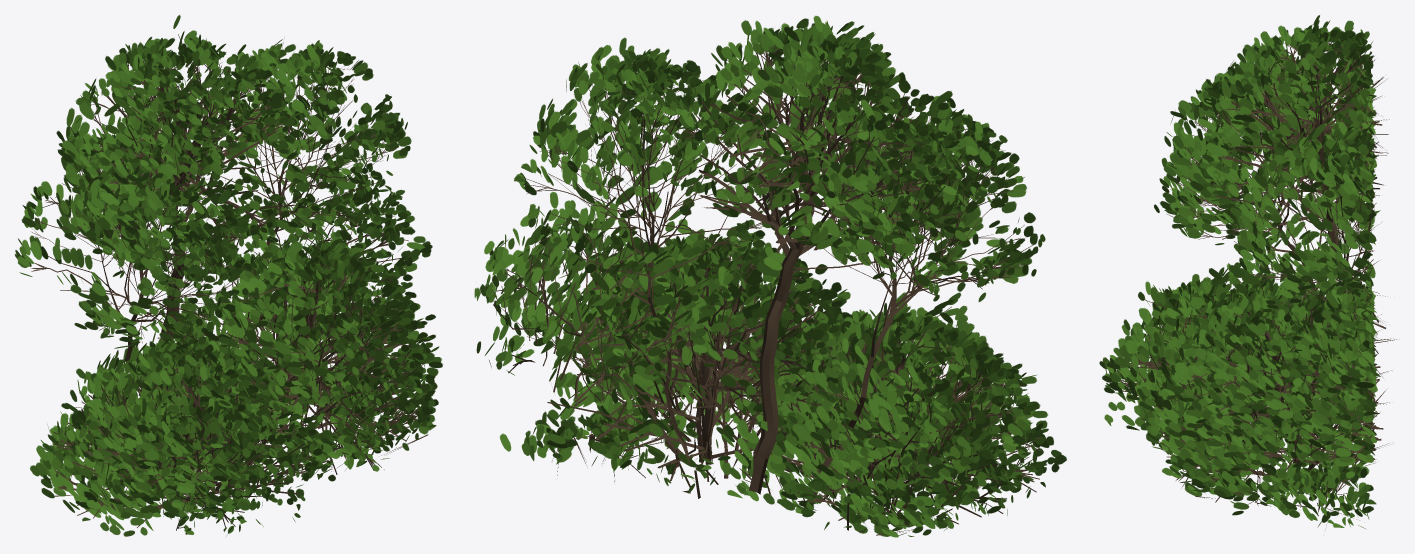
3 views of the same model, side by side, from view 1: azimuth 30°, elevation 25°; view 2: azimuth 150°, elevation 25°; view 3: azimuth 270°, elevation 25° (orthographic). The views are drawn at different scales.
Visible parts, largest first — view 1: oak 01.001_trunk_Mat.001_0.304; view 2: oak 01.001_trunk_Mat.001_0.304; view 3: oak 01.001_trunk_Mat.001_0.304.
Part boxes in pixels (x1=…): oak 01.001_trunk_Mat.001_0.304: x1=14, y1=15, x2=442, y2=536; oak 01.001_trunk_Mat.001_0.304: x1=474, y1=15, x2=1066, y2=537; oak 01.001_trunk_Mat.001_0.304: x1=1099, y1=15, x2=1396, y2=530.
Bounding box in the file's own units: 3.52 × 3.36 × 2.2.
Materials: 2 (1 with a texture image).
